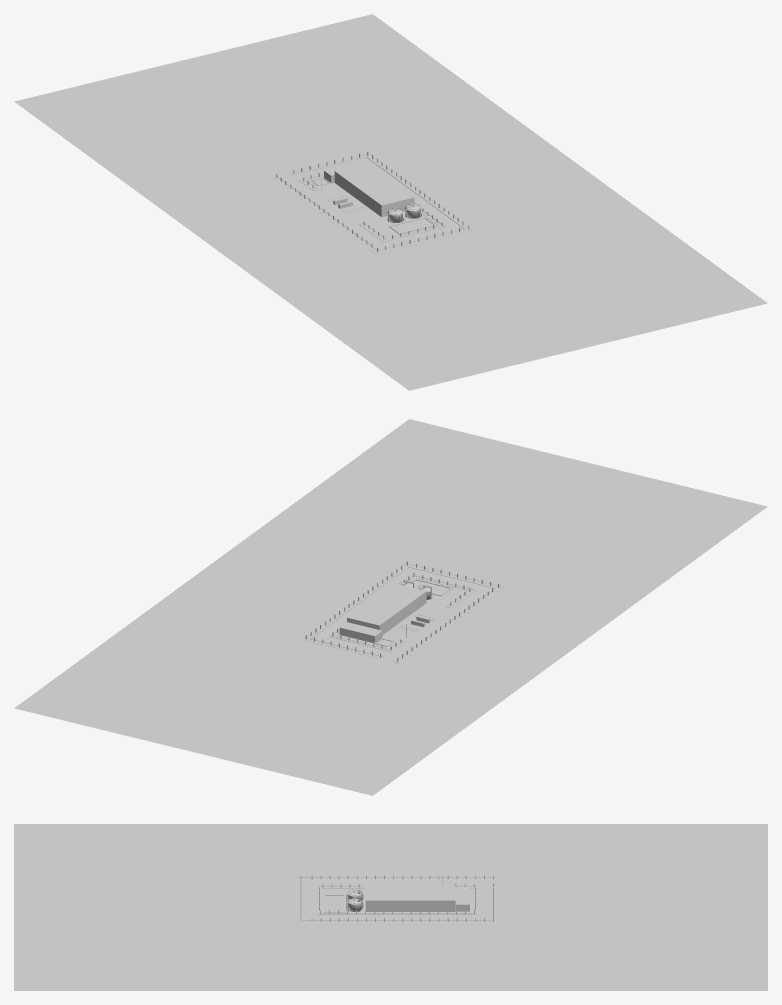
Rendered from 工厂碰撞.glb.
3 renders of one model, top to bottom at view 1: azimuth 30°, elevation 25°; view 2: azimuth 150°, elevation 25°; view 3: azimuth 270°, elevation 25°, orthographic. The views are drawn at different scales.
Parts seen in each view (by area): view 1: 地面, 房子; view 2: 地面, 房子; view 3: 地面, 房子, 房子.003.
Boxes of the visible parts, box(x1,y1,x2,y2) form: 地面: box(14, 14, 767, 390); 房子: box(334, 163, 414, 217); 地面: box(14, 419, 767, 795); 房子: box(347, 583, 426, 634); 地面: box(14, 824, 767, 990); 房子: box(365, 885, 455, 911); 房子.003: box(456, 888, 469, 911).
Bounding box in the file's own units: 363 × 14.09 × 693.
Materials: 2 (1 with a texture image).
